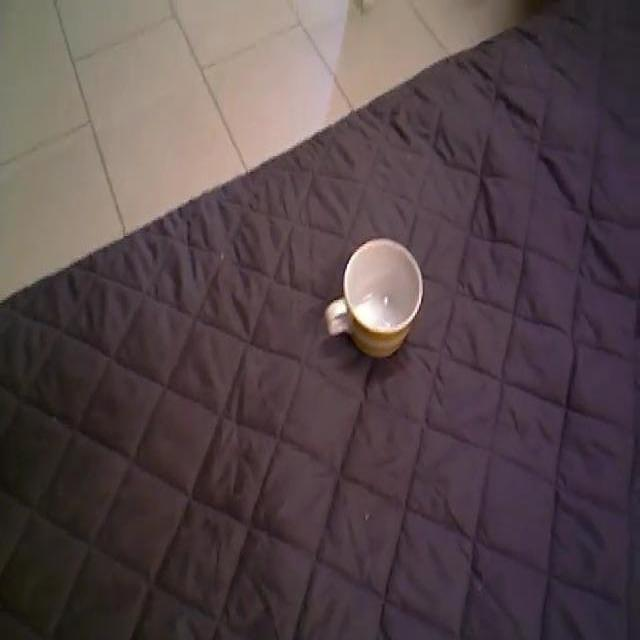cup: (323, 239, 423, 365)
